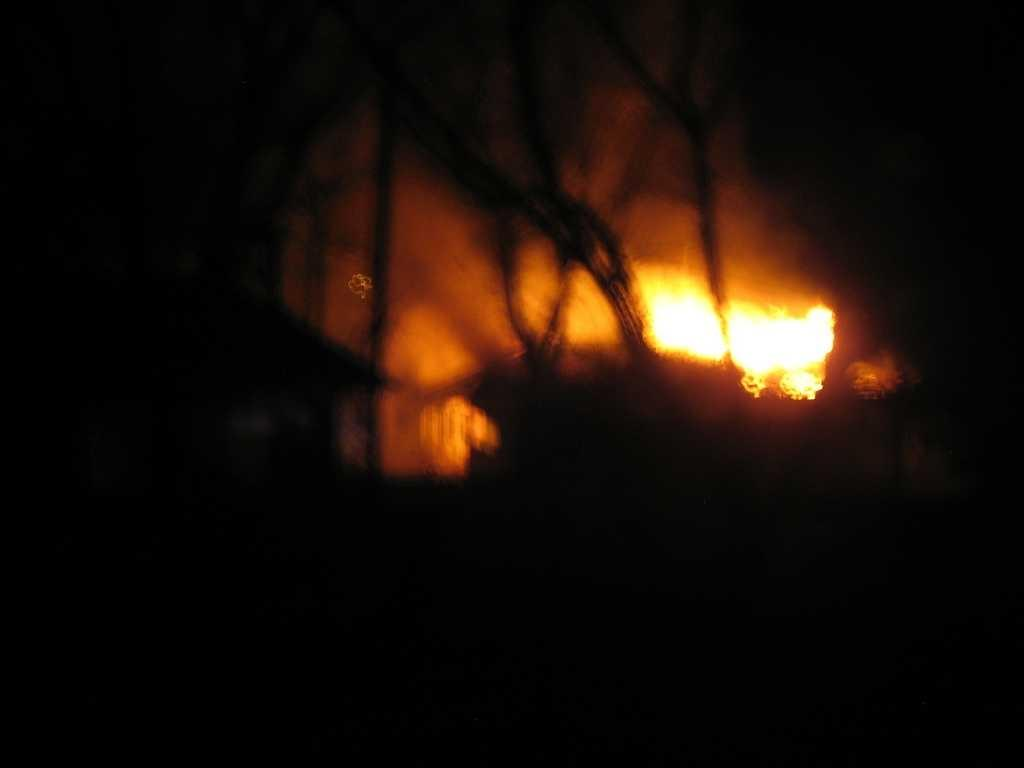fire: (654, 264, 859, 414)
